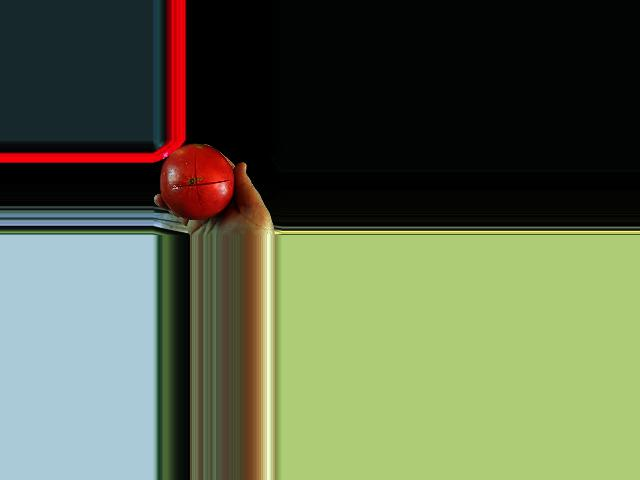tomato: (158, 144, 234, 220)
